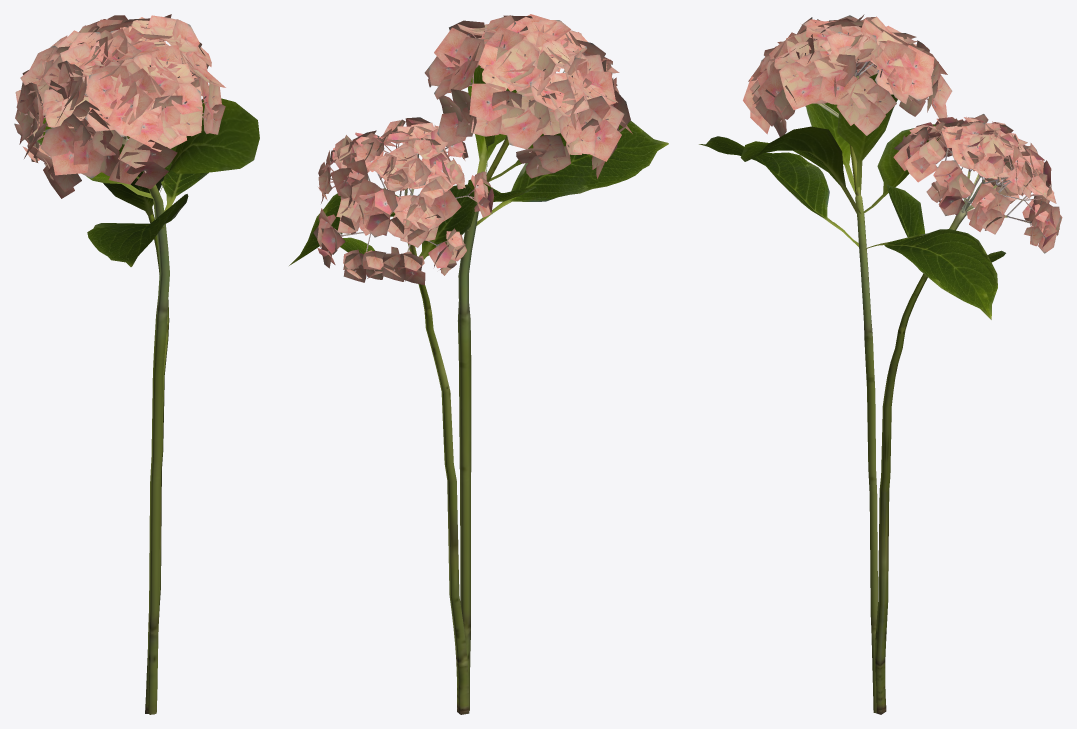
File: Hydrangea_bush_normal_peach.glb
3 renders of one model, left to right at view 1: azimuth 30°, elevation 25°; view 2: azimuth 150°, elevation 25°; view 3: azimuth 270°, elevation 25°, orthographic. The views are drawn at different scales.
Visible parts, largest first — view 1: BUSHEKK; view 2: BUSHEKK; view 3: BUSHEKK.
Part boxes in pixels (x1,y1,x2,y2): BUSHEKK: (14, 14, 259, 714); BUSHEKK: (289, 14, 668, 714); BUSHEKK: (699, 14, 1062, 714).
Size of the model in its own units: 1.48 by 3.79 by 1.87.
1 material, 1 textured.
